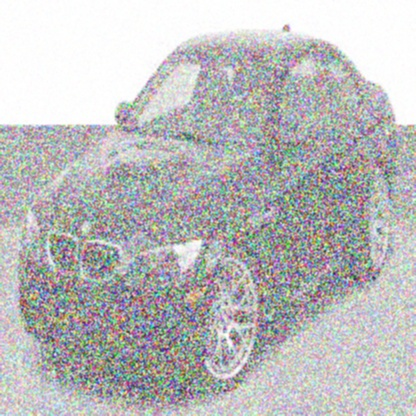Vehicle: (18, 27, 405, 399)
